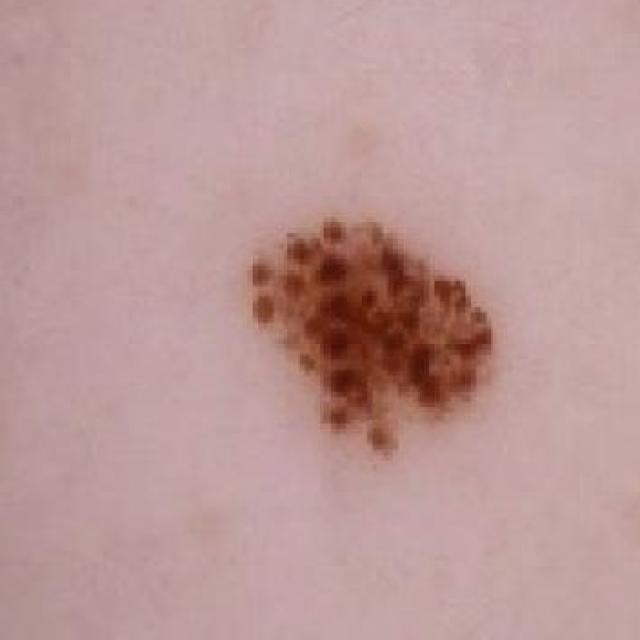MEL: (198, 200, 513, 467)
